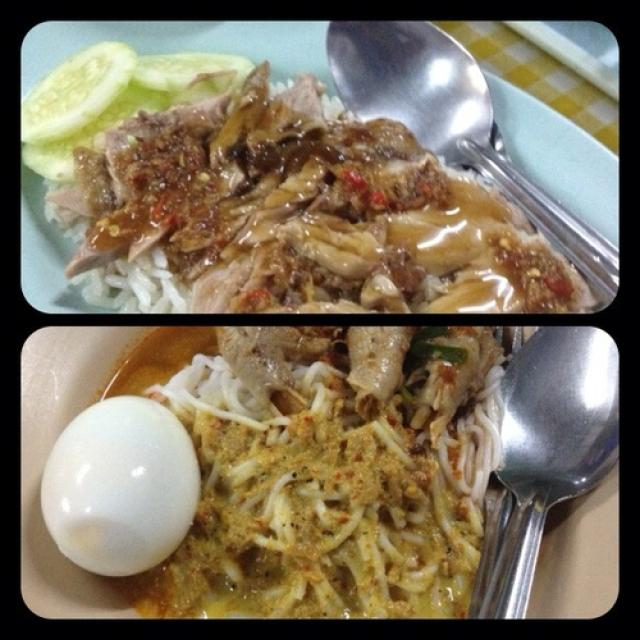面条主食: (33, 26, 594, 624)
